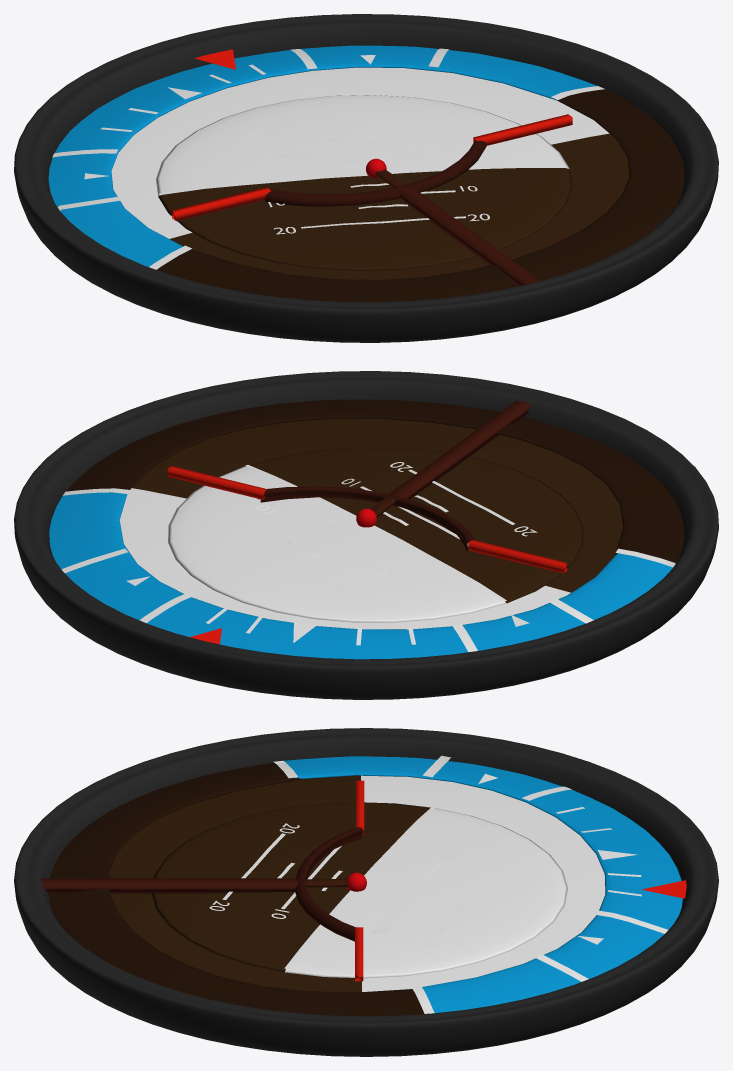
Rendered from авиагоризонт.fbx.
3 renders of one model, top to bottom at view 1: azimuth 30°, elevation 25°; view 2: azimuth 150°, elevation 25°; view 3: azimuth 270°, elevation 25°, orthographic.
Visible parts, largest first — view 1: Большая рамка, Sphere.001, крутилка, полукруг 1.001, полукруг 2.001, Sphere.004, Sphere.003, BezierCurve, Cube, Cube.002, Cube.001, Plane; view 2: Большая рамка, крутилка, полукруг 1.001, Sphere.001, полукруг 2.001, Sphere.003, Sphere.004, Cube, BezierCurve, Cube.002, Cube.001, Plane; view 3: Большая рамка, крутилка, Sphere.001, полукруг 1.001, полукруг 2.001, Sphere.003, Sphere.004, Cube, BezierCurve, Plane.
Part boxes in pixels (<box>): Большая рамка: <box>14,14,718,342</box>; Sphere.001: <box>158,168,572,270</box>; крутилка: <box>156,95,569,196</box>; полукруг 1.001: <box>48,45,596,266</box>; полукруг 2.001: <box>157,89,684,302</box>; Sphere.004: <box>111,67,606,236</box>; Sphere.003: <box>170,133,629,279</box>; BezierCurve: <box>265,140,486,206</box>; Cube: <box>399,187,540,286</box>; Cube.002: <box>172,187,270,221</box>; Cube.001: <box>473,114,572,145</box>; Plane: <box>159,166,566,194</box>; Большая рамка: <box>14,371,718,699</box>; крутилка: <box>168,466,506,622</box>; полукруг 1.001: <box>49,492,672,659</box>; Sphere.001: <box>249,447,583,603</box>; полукруг 2.001: <box>66,399,684,563</box>; Sphere.003: <box>132,418,623,592</box>; Sphere.004: <box>119,490,567,629</box>; Cube: <box>389,400,530,499</box>; BezierCurve: <box>258,486,474,551</box>; Cube.002: <box>468,539,567,573</box>; Cube.001: <box>167,466,266,499</box>; Plane: <box>245,465,506,601</box>; Большая рамка: <box>14,728,718,1056</box>; крутилка: <box>285,808,567,978</box>; Sphere.001: <box>151,802,430,972</box>; полукруг 1.001: <box>284,756,682,1012</box>; полукруг 2.001: <box>49,762,424,1016</box>; Sphere.003: <box>109,775,361,992</box>; Sphere.004: <box>367,776,605,991</box>; Cube: <box>41,878,298,893</box>; BezierCurve: <box>295,827,362,941</box>; Plane: <box>284,806,435,968</box>.
Bounding box in the file's own units: 2.09 × 0.1719 × 2.09.
